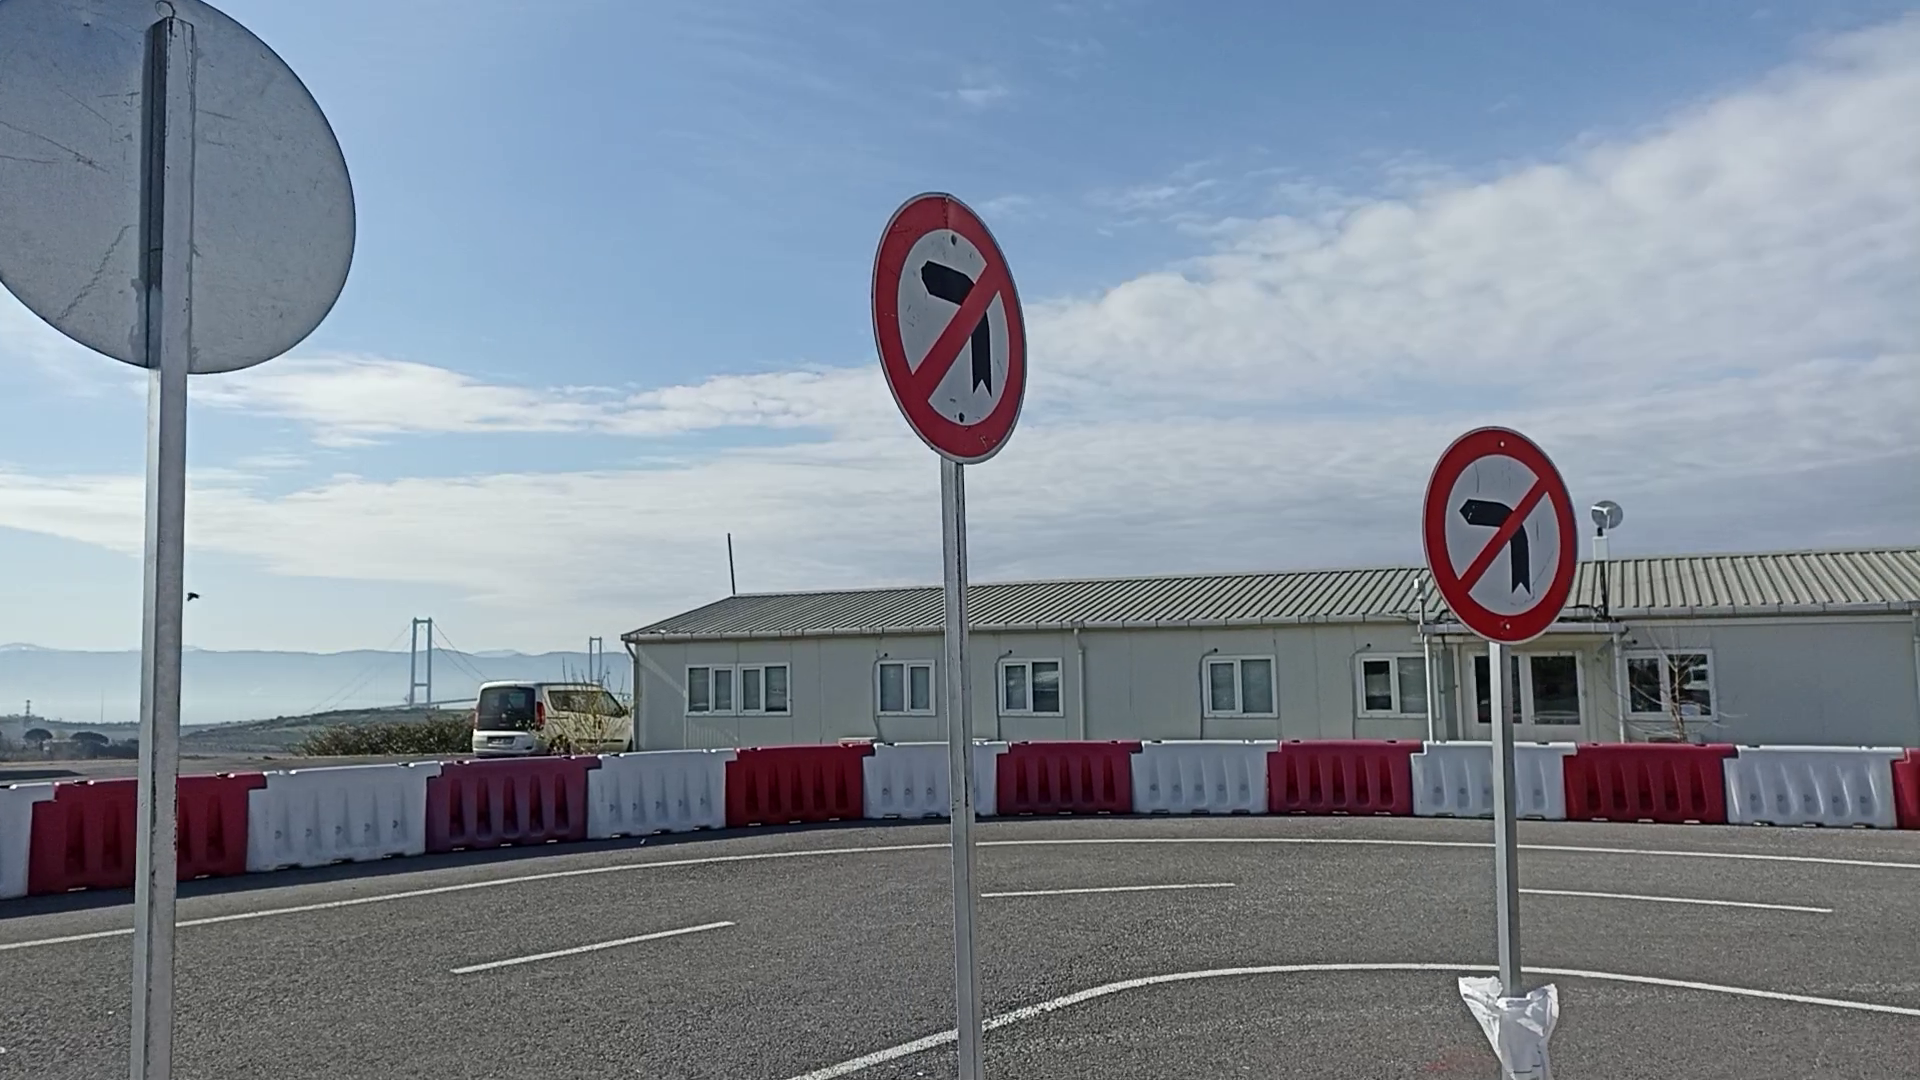noleft: (868, 187, 1033, 467), (1416, 421, 1584, 647)
